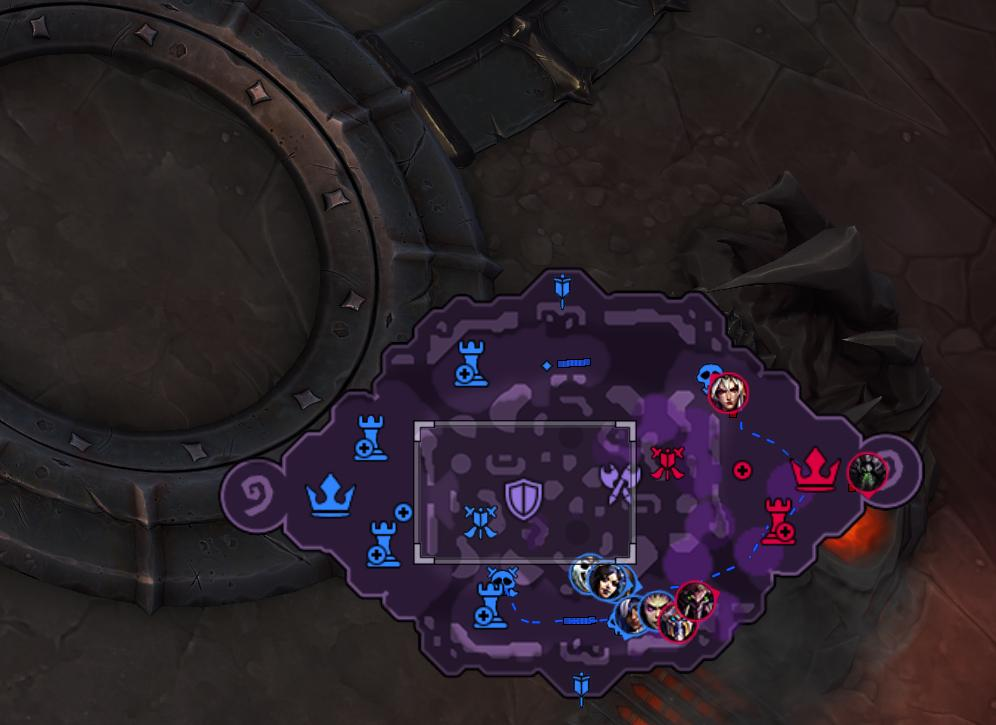blue player: (586, 559, 634, 602), (636, 591, 676, 634), (568, 553, 604, 595), (612, 594, 647, 636), (592, 565, 621, 598)
red player: (845, 449, 890, 496), (673, 579, 718, 624), (706, 371, 748, 417), (657, 605, 698, 643)
